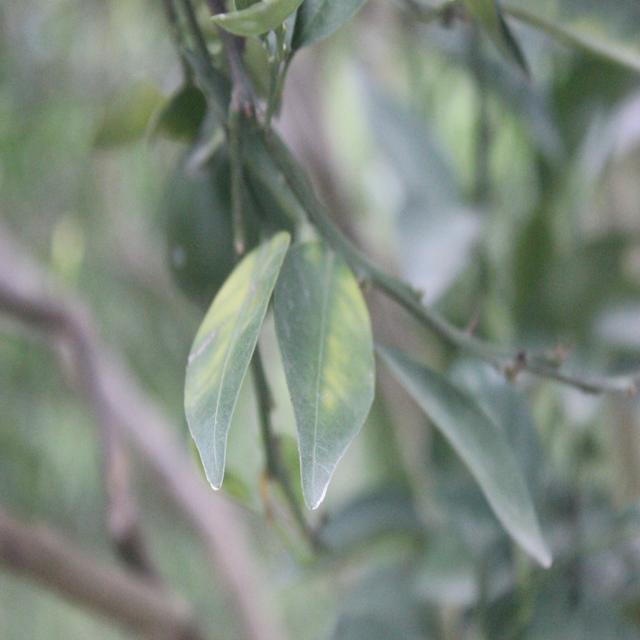greening: (180, 228, 284, 476), (286, 267, 371, 470)
